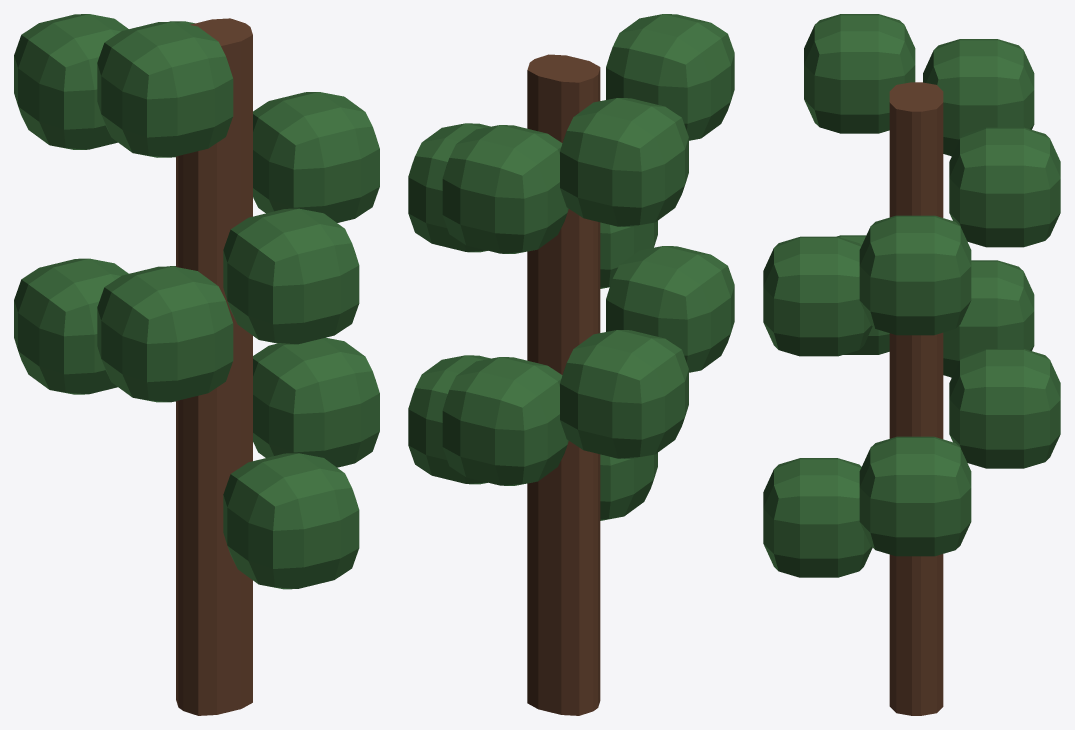
Rendered from TreeSpiral.fbx.
The picture shows the model from 3 angles, left to right: view 1: azimuth 30°, elevation 25°; view 2: azimuth 150°, elevation 25°; view 3: azimuth 270°, elevation 25°; orthographic projection. The views are drawn at different scales.
Parts seen in each view (by area): view 1: Cube.014; view 2: Cube.014; view 3: Cube.014.
Boxes of the visible parts, x1,y1,x2,y2 form: Cube.014: (14,14,379,715); Cube.014: (408,14,734,715); Cube.014: (763,14,1060,715).
Size of the model in its own units: 626 by 1408 by 591.
